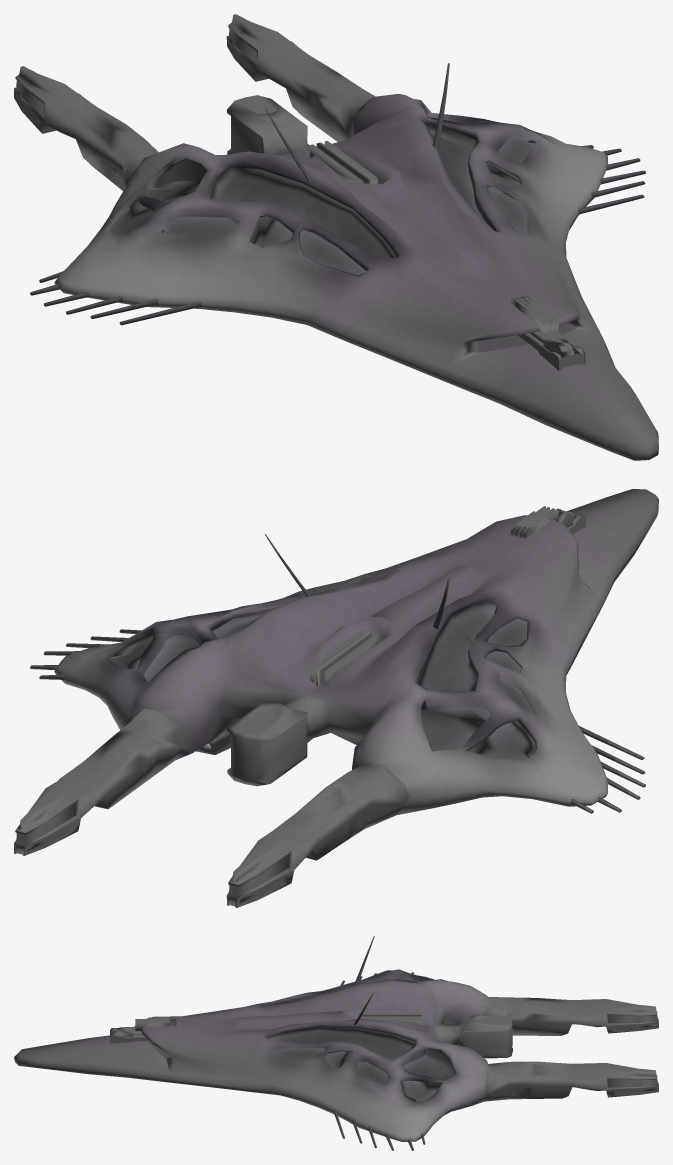
3 renders of one model, top to bottom at view 1: azimuth 30°, elevation 25°; view 2: azimuth 150°, elevation 25°; view 3: azimuth 270°, elevation 25°, orthographic. The views are drawn at different scales.
Visible parts, largest first — view 1: Object_3, Object_2; view 2: Object_3, Object_2; view 3: Object_3, Object_2.
Part boxes in pixels (x1=…): Object_3: x1=14, y1=15, x2=658, y2=452; Object_2: x1=14, y1=14, x2=658, y2=460; Object_3: x1=14, y1=489, x2=658, y2=902; Object_2: x1=14, y1=507, x2=657, y2=907; Object_3: x1=14, y1=936, x2=658, y2=1150; Object_2: x1=14, y1=974, x2=658, y2=1141.
Size of the model in its own units: 112 by 33.13 by 171.
1 material, 1 textured.
